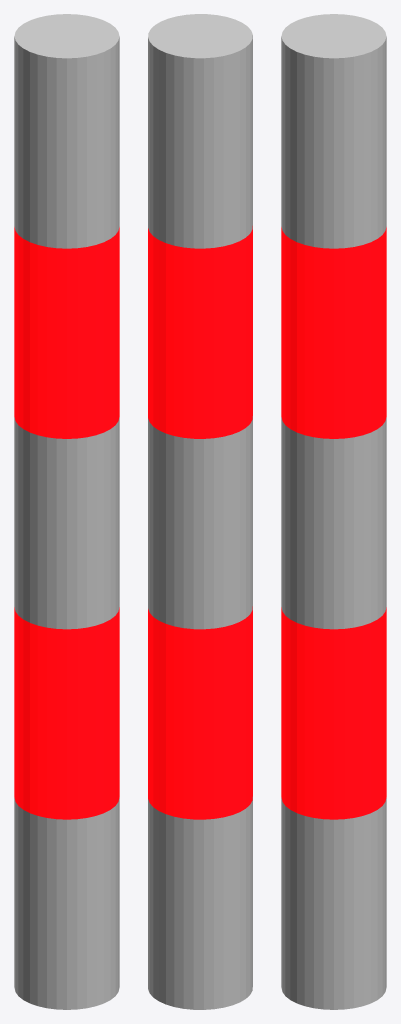
File: Słupek.fbx
3 views of the same model, side by side, from view 1: azimuth 90°, elevation 25°; view 2: azimuth 150°, elevation 25°; view 3: azimuth 270°, elevation 25° (orthographic).
Visible parts, largest first — view 1: Cylinder; view 2: Cylinder; view 3: Cylinder.
Part boxes in pixels (x1,y1,x2,y2): Cylinder: [14, 14, 119, 1009]; Cylinder: [148, 14, 252, 1009]; Cylinder: [281, 14, 386, 1009].
Bounding box in the file's own units: 10 × 100 × 10.
